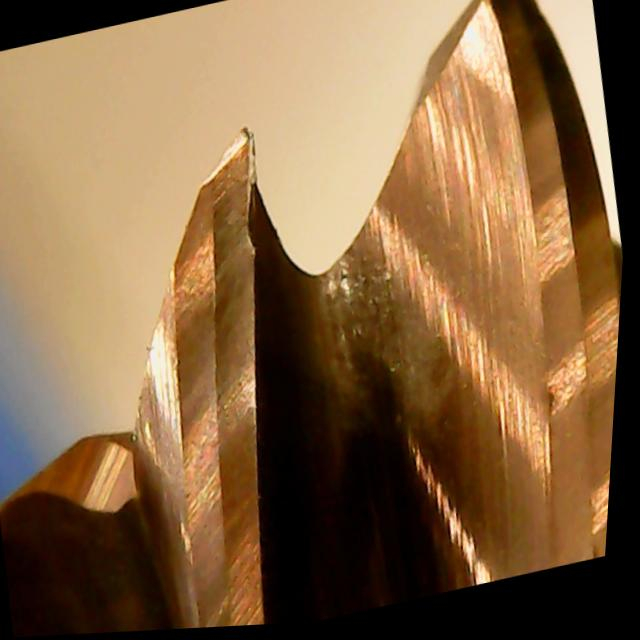Tool-wear-class-1: (139, 117, 326, 434)
